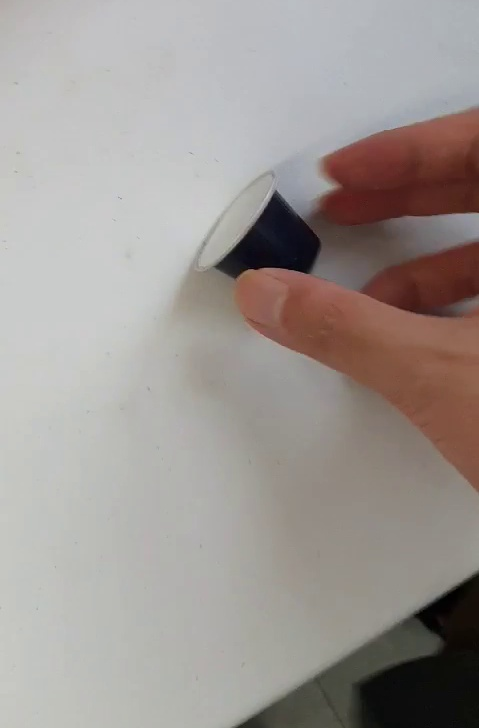capsule_1: (193, 170, 327, 300)
